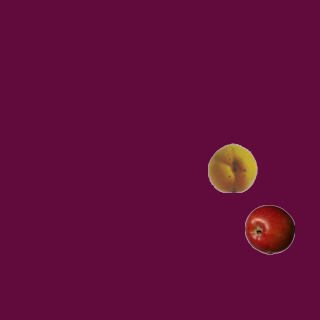Apple Braeburn: (244, 204, 294, 254)
Peach 2: (207, 142, 257, 192)
